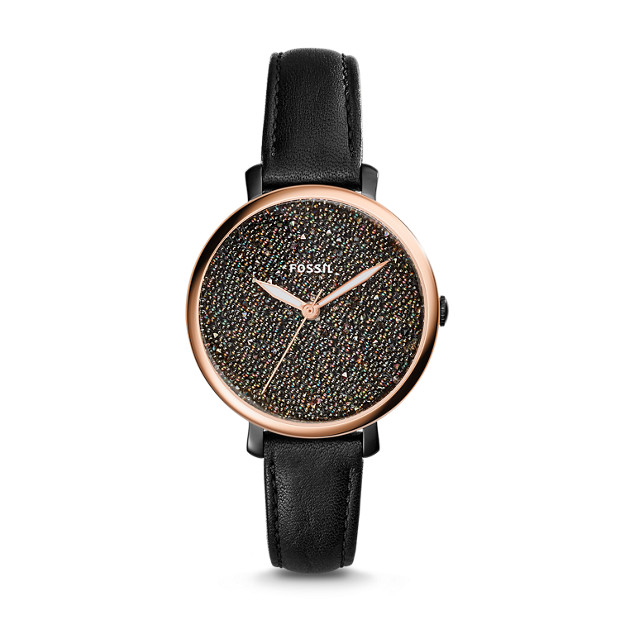clock: (198, 196, 425, 427)
